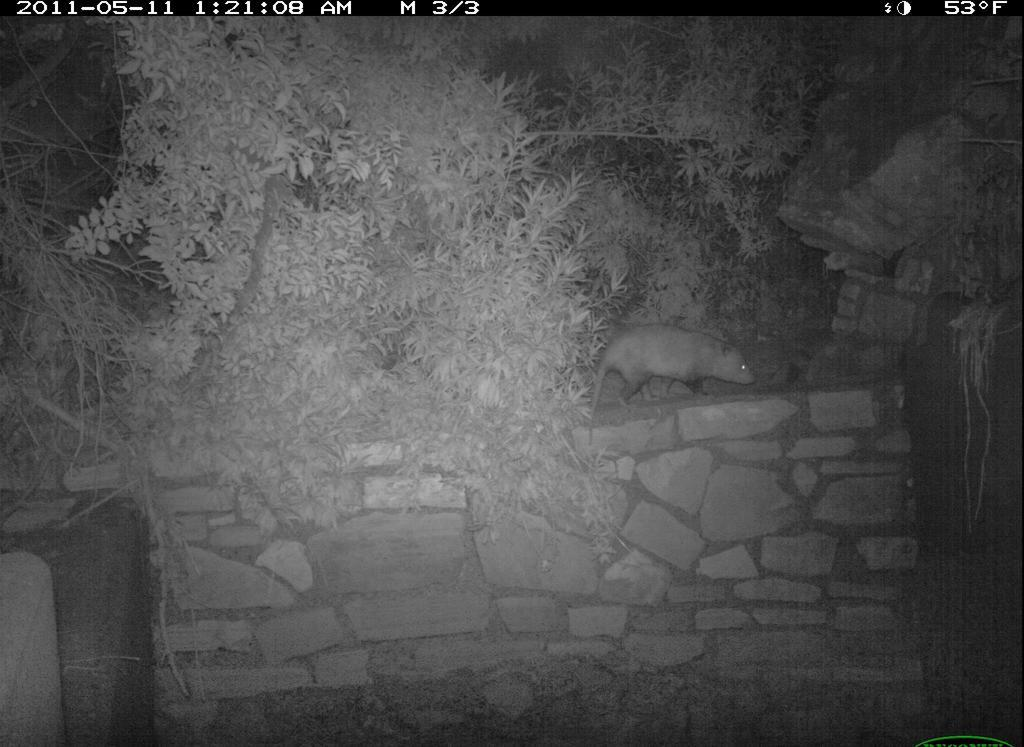opossum: (580, 299, 772, 438)
